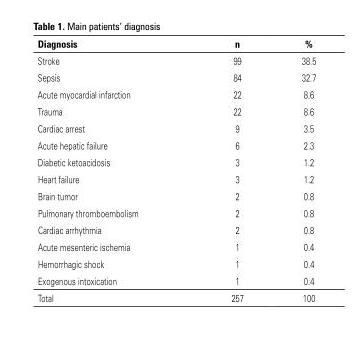table: (36, 37, 315, 303)
table column: (36, 37, 184, 303), (184, 37, 271, 303), (271, 37, 315, 303)
table column header: (36, 37, 315, 51)
table row: (36, 51, 315, 68), (36, 68, 315, 85), (36, 85, 315, 102), (36, 102, 315, 119), (36, 119, 315, 136), (36, 136, 315, 153), (36, 153, 315, 170), (36, 170, 315, 187), (36, 187, 315, 204), (36, 220, 315, 237), (36, 237, 315, 254), (36, 254, 315, 271), (36, 271, 315, 288), (36, 204, 315, 220), (36, 288, 315, 303), (36, 37, 315, 51)
